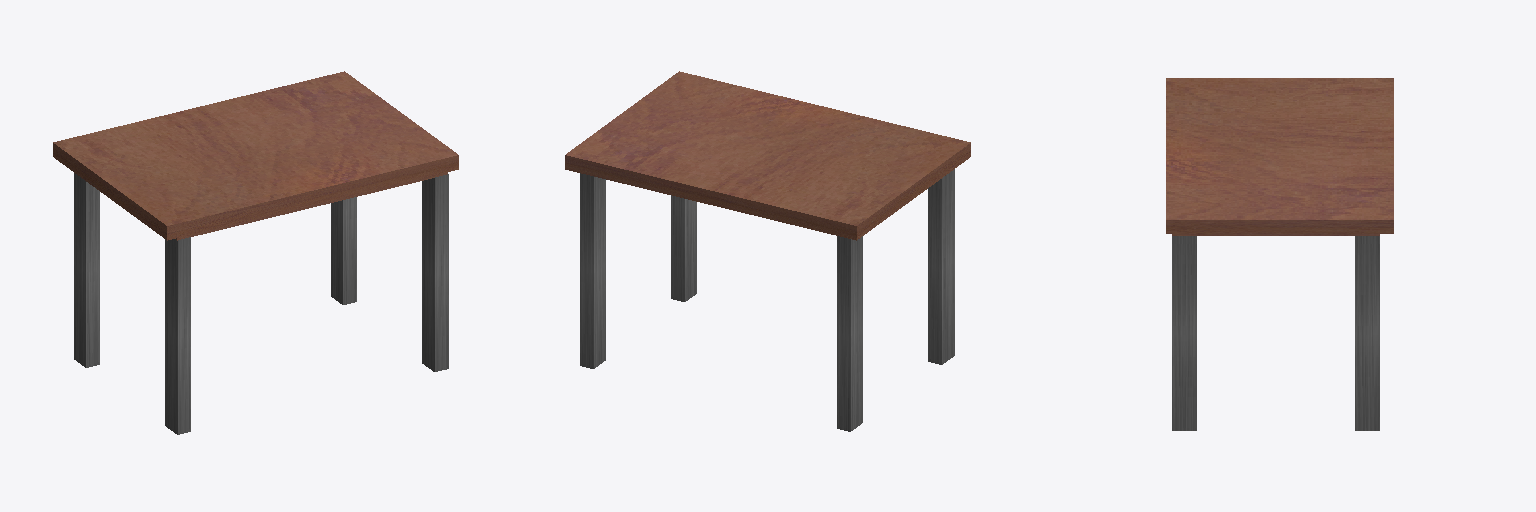
3 renders of one model, left to right at view 1: azimuth 30°, elevation 25°; view 2: azimuth 150°, elevation 25°; view 3: azimuth 270°, elevation 25°, orthographic.
Visible parts, largest first — view 1: Cube.006_Cube.028; view 2: Cube.006_Cube.028; view 3: Cube.006_Cube.028.
Part boxes in pixels (x1,y1,x2,y2): Cube.006_Cube.028: (53,71,458,434); Cube.006_Cube.028: (565,71,970,431); Cube.006_Cube.028: (1166,78,1393,430).
Bounding box in the file's own units: 8.4 × 5.9 × 5.7.
Materials: 1 (1 with a texture image).